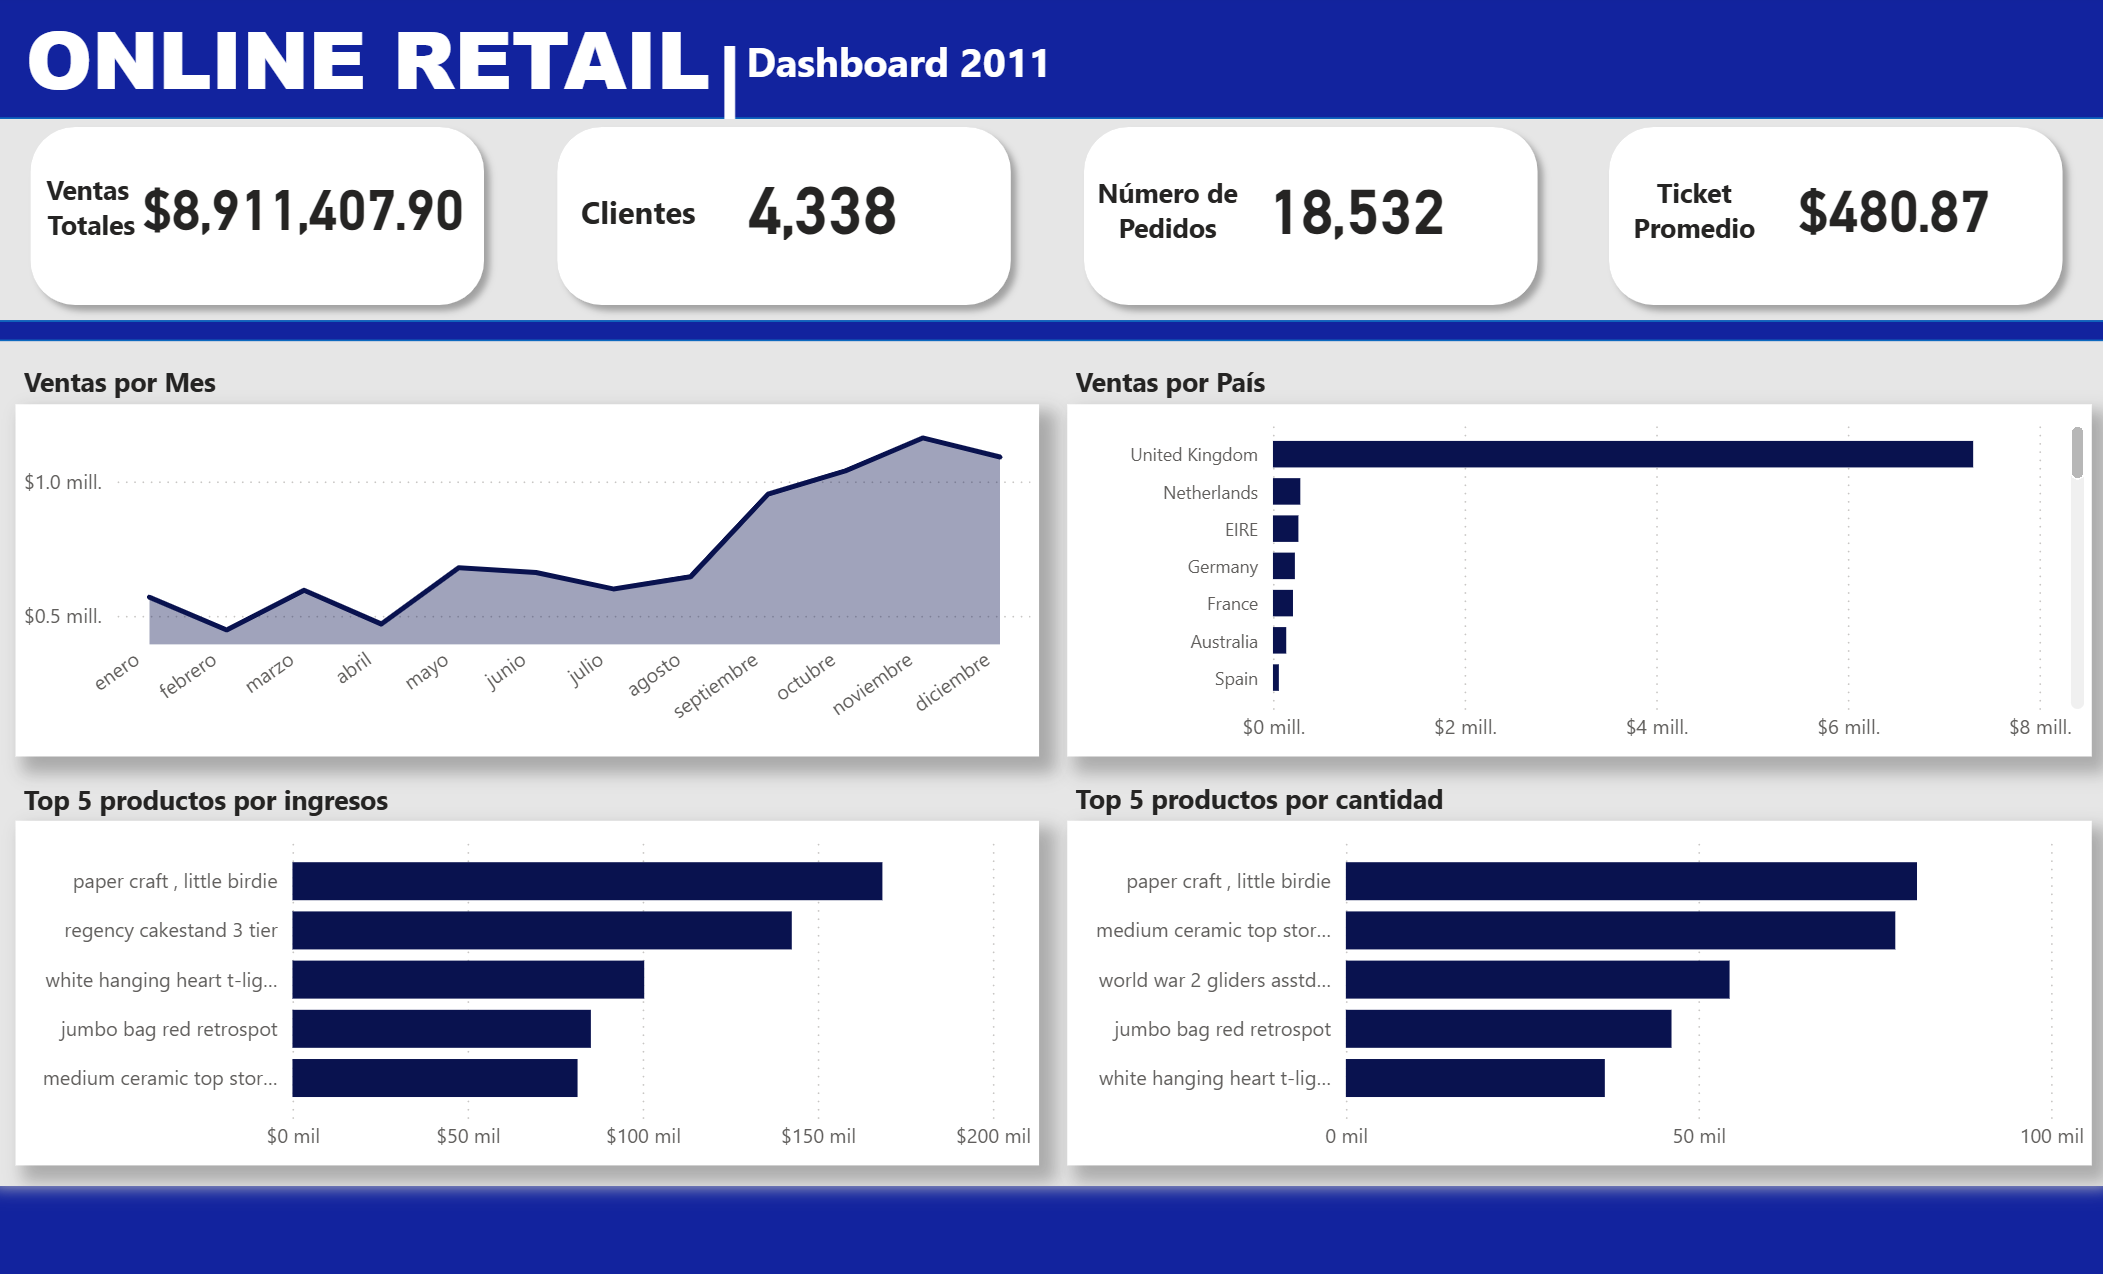

Layout of this report page (visuals, bound fields, positions):
{"tool":"powerbi","page":{"name":"Página 1","canvas":[1280,720],"ordinal":0},"visuals":[{"type":"lineChart","fields":{"Y":["Sum(df__sincal_limpio.Income)"],"Category":["df__sincal_limpio.YearMonth.Variación.Jerarquía de fechas.Mes"]},"box":[0,234.4,1280,250],"z":0},{"type":"card","fields":{"Values":["df__sincal_limpio.Ventas Totales"]},"box":[58.4,30.2,170.2,81.7],"z":1000},{"type":"card","fields":{"Values":["df__sincal_limpio.Ventas Totales"]},"box":[241.2,30.2,214,81.7],"z":2000},{"type":"card","fields":{"Values":["df__sincal_limpio.Número de Pedidos"]},"box":[481.5,30.2,201.3,81.7],"z":3000},{"type":"card","fields":{"Values":["df__sincal_limpio.Productos Vendidos"]},"box":[694.5,30.2,179,81.7],"z":4000},{"type":"card","fields":{"Values":["df__sincal_limpio.Ticket Promedio"]},"box":[891.9,23.3,169.2,95.3],"z":5000},{"type":"card","fields":{"Values":["df__sincal_limpio.Ingreso Por Clientes"]},"box":[0,115,1280,150],"z":6000}]}

Visuals, with their boxes on the page's 1280x720 design canvas (x1, y1, x2, y2). These are canvas units, not pixel positions in the 2103x1274 screenshot, which may show the page scaled, cropped or inside an application window:
lineChart - Sum(df__sincal_limpio.Income) x df__sincal_limpio.YearMonth.Variación.Jerarquía de fechas.Mes: (x1=0, y1=234, x2=1280, y2=484)
card - df__sincal_limpio.Ventas Totales: (x1=58, y1=30, x2=229, y2=112)
card - df__sincal_limpio.Ventas Totales: (x1=241, y1=30, x2=455, y2=112)
card - df__sincal_limpio.Número de Pedidos: (x1=482, y1=30, x2=683, y2=112)
card - df__sincal_limpio.Productos Vendidos: (x1=694, y1=30, x2=874, y2=112)
card - df__sincal_limpio.Ticket Promedio: (x1=892, y1=23, x2=1061, y2=119)
card - df__sincal_limpio.Ingreso Por Clientes: (x1=0, y1=115, x2=1280, y2=265)
